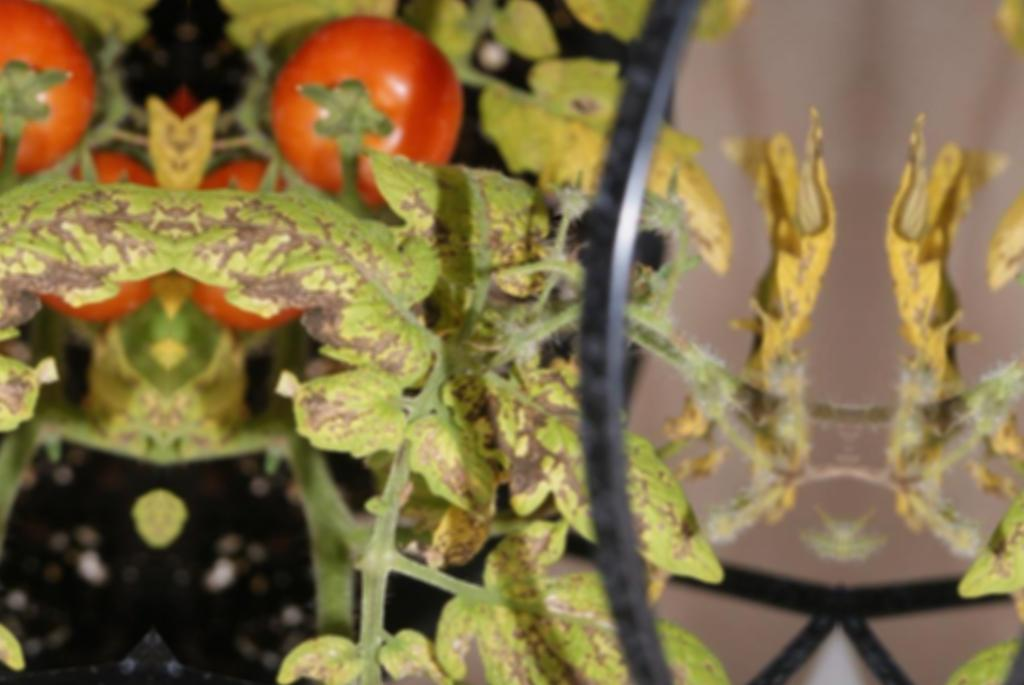Tomato leaf bacterial spot: (471, 368, 752, 607), (178, 179, 469, 397), (411, 524, 757, 685), (363, 152, 564, 292), (274, 367, 419, 466)
